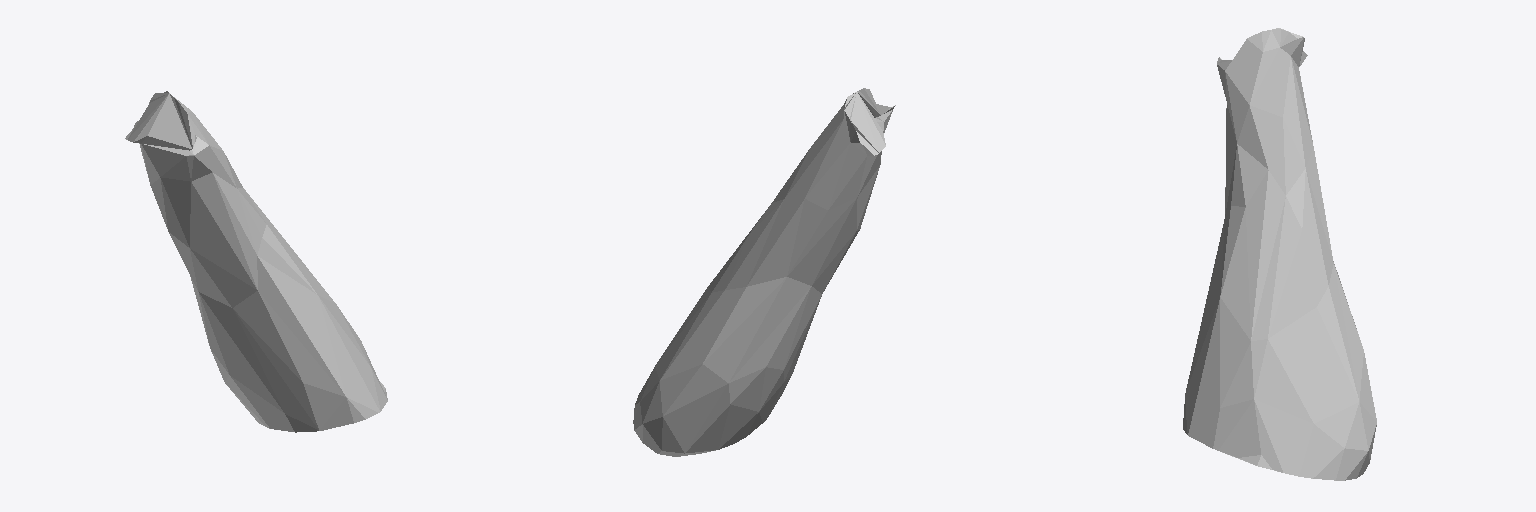
File: hand.obj
The picture shows the model from 3 angles: view 1: azimuth 30°, elevation 25°; view 2: azimuth 150°, elevation 25°; view 3: azimuth 270°, elevation 25°; orthographic projection.
Parts seen in each view (by area): view 1: Roundcube.007; view 2: Roundcube.007; view 3: Roundcube.007.
Boxes of the visible parts, box(x1,y1,x2,y2) form: Roundcube.007: box(125, 91, 387, 432); Roundcube.007: box(633, 88, 895, 456); Roundcube.007: box(1183, 28, 1376, 480).
Bounding box in the file's own units: 0.3883 × 0.5705 × 0.2714.